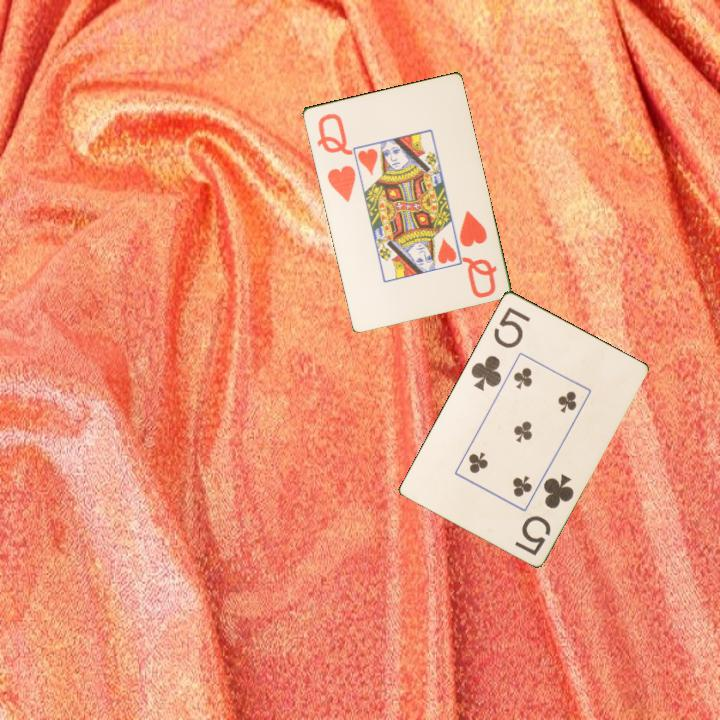5c: (467, 303, 533, 394), (511, 470, 577, 558)
Qh: (313, 109, 358, 204), (455, 207, 500, 301)
